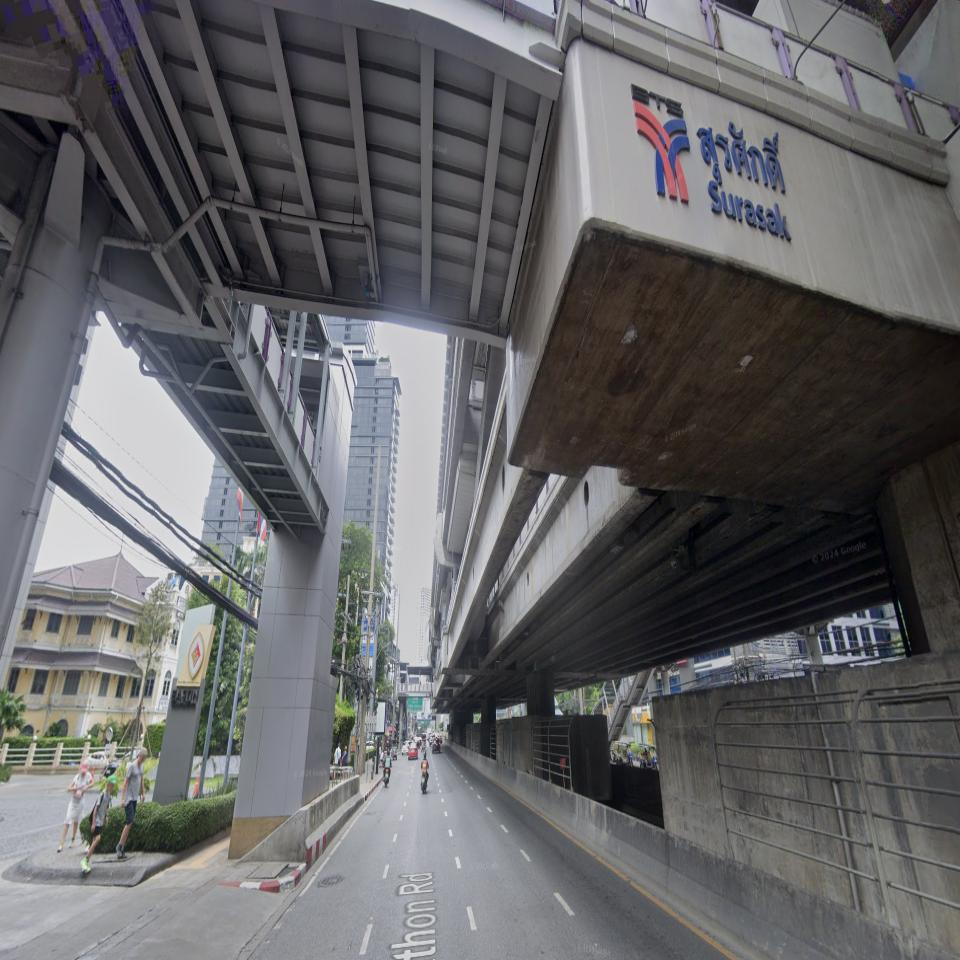signage: (630, 81, 794, 246), (697, 120, 793, 246)
